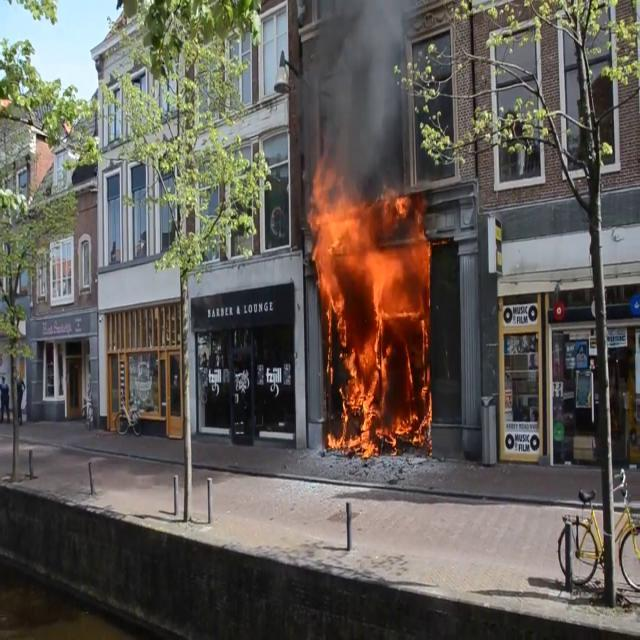Fire: (307, 174, 434, 457)
Smoke: (292, 1, 420, 200)
